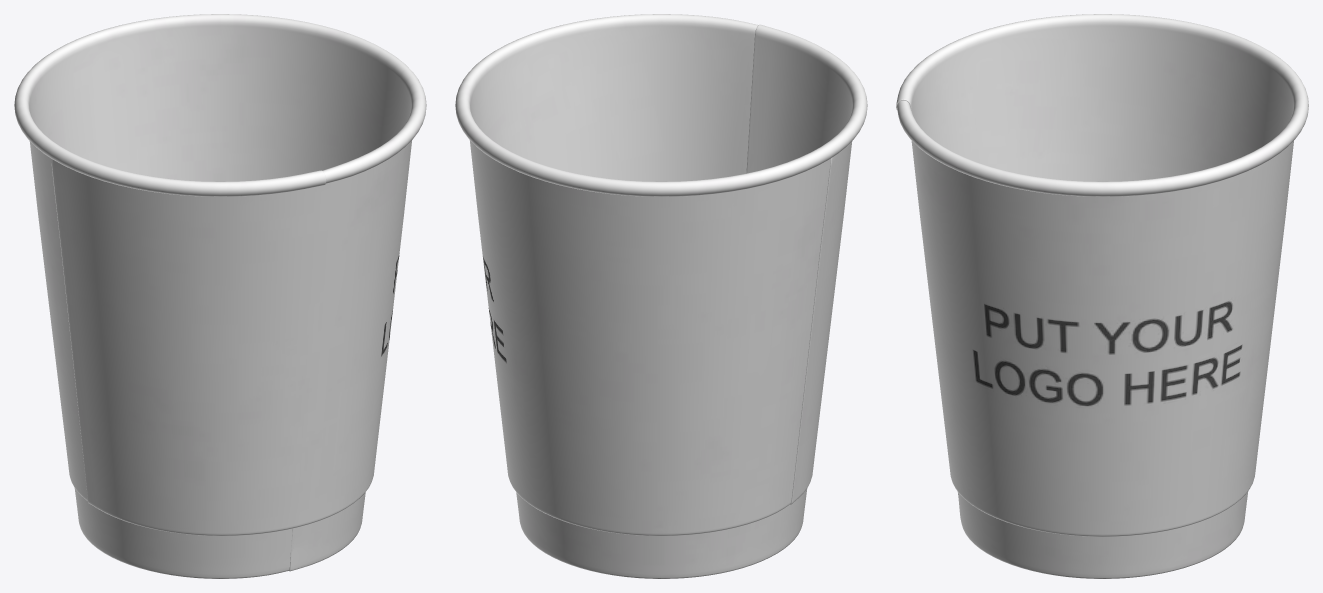
The model's file is hot-cup-insert-clean-transformed.glb.
The picture shows the model from 3 angles, left to right: view 1: azimuth 30°, elevation 25°; view 2: azimuth 150°, elevation 25°; view 3: azimuth 270°, elevation 25°; orthographic projection.
Visible parts, largest first — view 1: HotFBXASC032chocolateFBXASC032glass; view 2: HotFBXASC032chocolateFBXASC032glass; view 3: HotFBXASC032chocolateFBXASC032glass.
Boxes of the visible parts, x1,y1,x2,y2 form: HotFBXASC032chocolateFBXASC032glass: (14, 14, 426, 578); HotFBXASC032chocolateFBXASC032glass: (455, 14, 867, 578); HotFBXASC032chocolateFBXASC032glass: (896, 14, 1308, 578).
Size of the model in its own units: 0.0795 by 0.0897 by 0.0797.
1 material, 1 textured.
